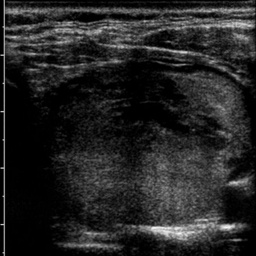mass: (32, 57, 248, 229)
